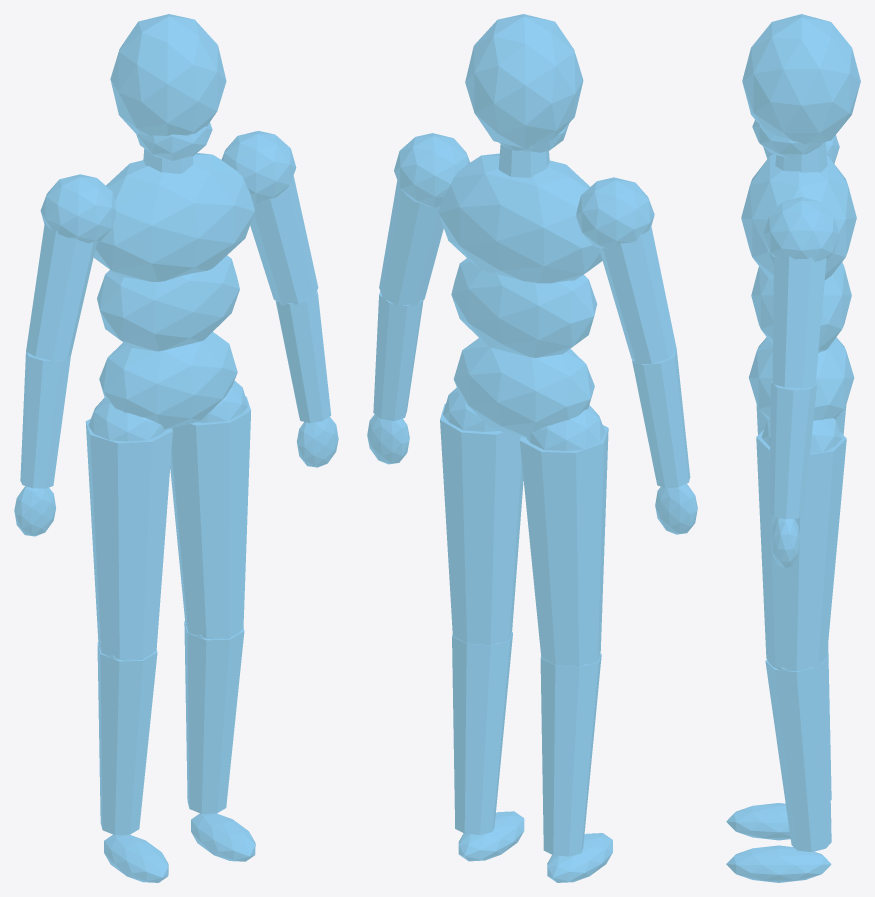
The model's file is physioscan_body.glb.
3 views of the same model, side by side, from view 1: azimuth 30°, elevation 25°; view 2: azimuth 150°, elevation 25°; view 3: azimuth 270°, elevation 25° (orthographic).
Visible parts, largest first — view 1: PhysioScan_Body; view 2: PhysioScan_Body; view 3: PhysioScan_Body.
Boxes of the visible parts, x1,y1,x2,y2 form: PhysioScan_Body: (14,14,338,882); PhysioScan_Body: (367,14,697,882); PhysioScan_Body: (726,14,860,882).
Bounding box in the file's own units: 0.7243 × 1.8 × 0.2616.
